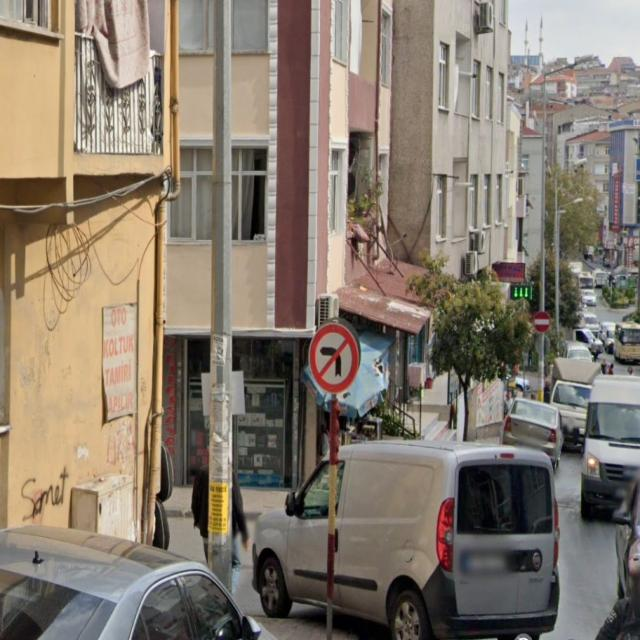girisyok: (534, 313, 550, 333)
soladonulmez: (308, 325, 360, 392)
